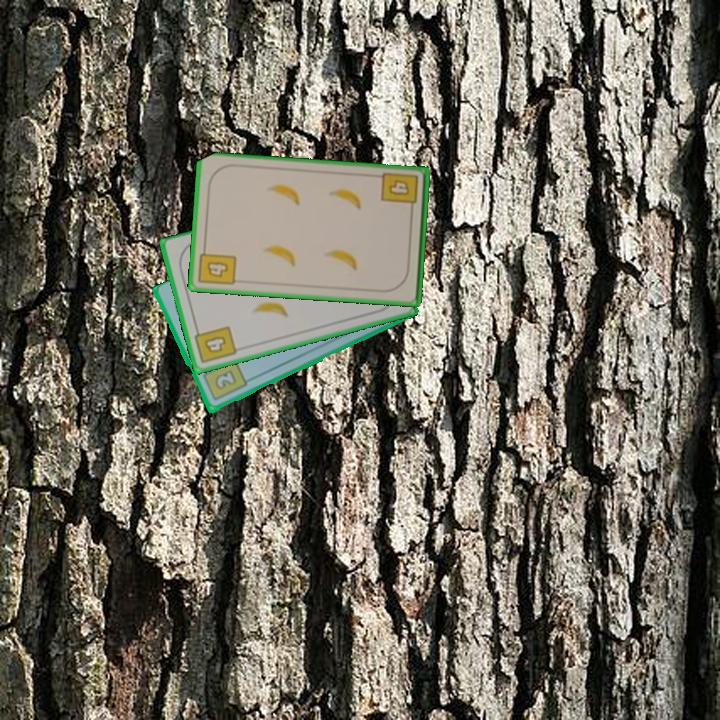2b: (199, 356, 250, 404)
4b: (191, 322, 239, 367), (195, 243, 239, 288), (378, 169, 421, 215)
